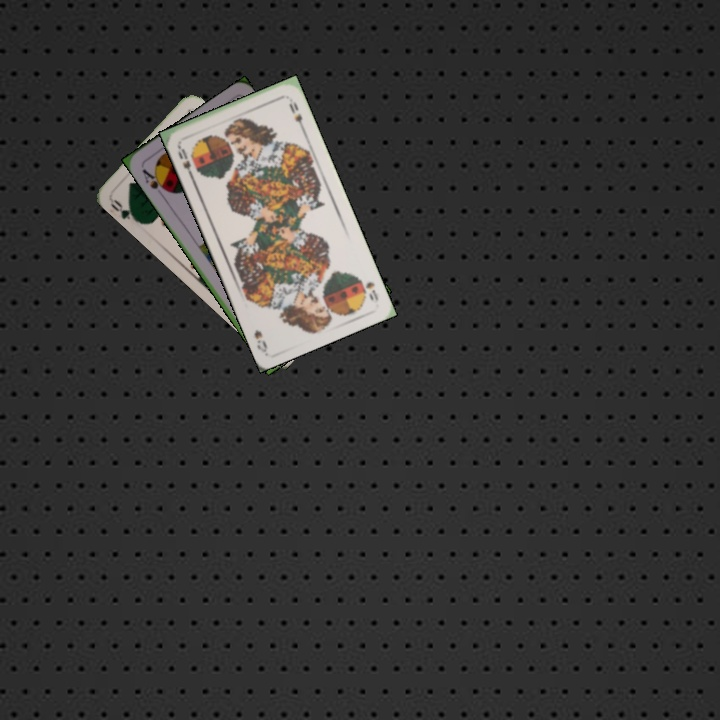GO: (106, 195, 142, 225)
SA: (138, 165, 171, 199)
SO: (173, 141, 196, 179), (361, 278, 381, 303)
